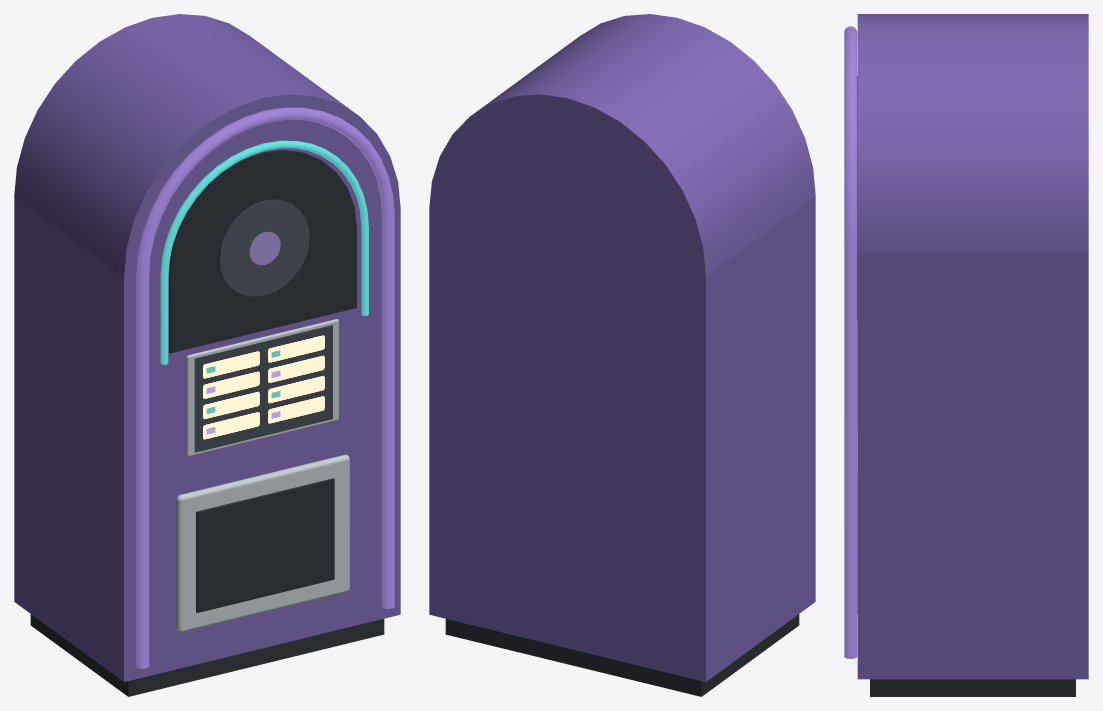
File: SM_Jukebox.glb
3 renders of one model, left to right at view 1: azimuth 30°, elevation 25°; view 2: azimuth 150°, elevation 25°; view 3: azimuth 270°, elevation 25°, orthographic. The views are drawn at different scales.
Visible parts, largest first — view 1: SM_Jukebox; view 2: SM_Jukebox; view 3: SM_Jukebox.
Boxes of the visible parts, <box> form: SM_Jukebox: <box>14,14,400,696</box>; SM_Jukebox: <box>429,14,815,696</box>; SM_Jukebox: <box>844,14,1088,696</box>.
Bounding box in the file's own units: 0.8 × 1.58 × 0.5812.
Materials: 4 (4 with a texture image).
